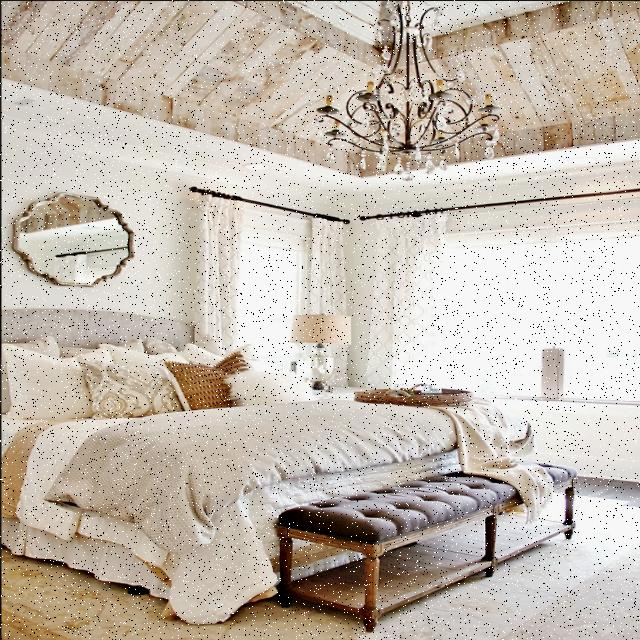bed: (0, 322, 540, 522)
